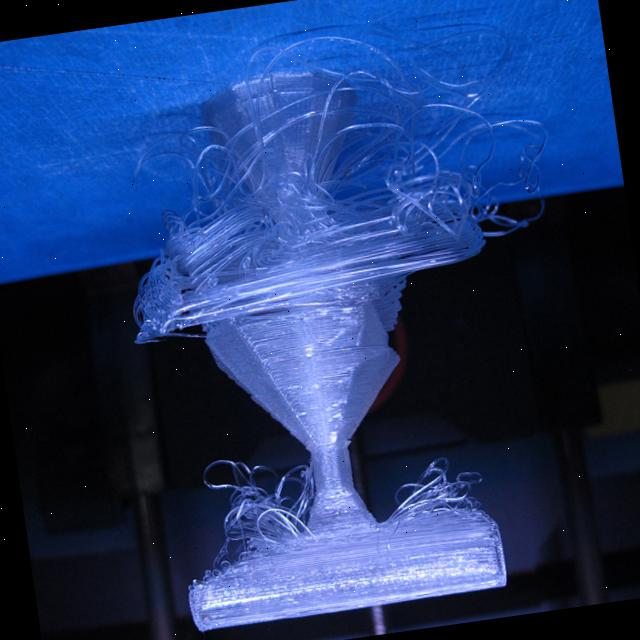spaghetti: (93, 13, 554, 353), (188, 444, 325, 578), (374, 438, 493, 540)
